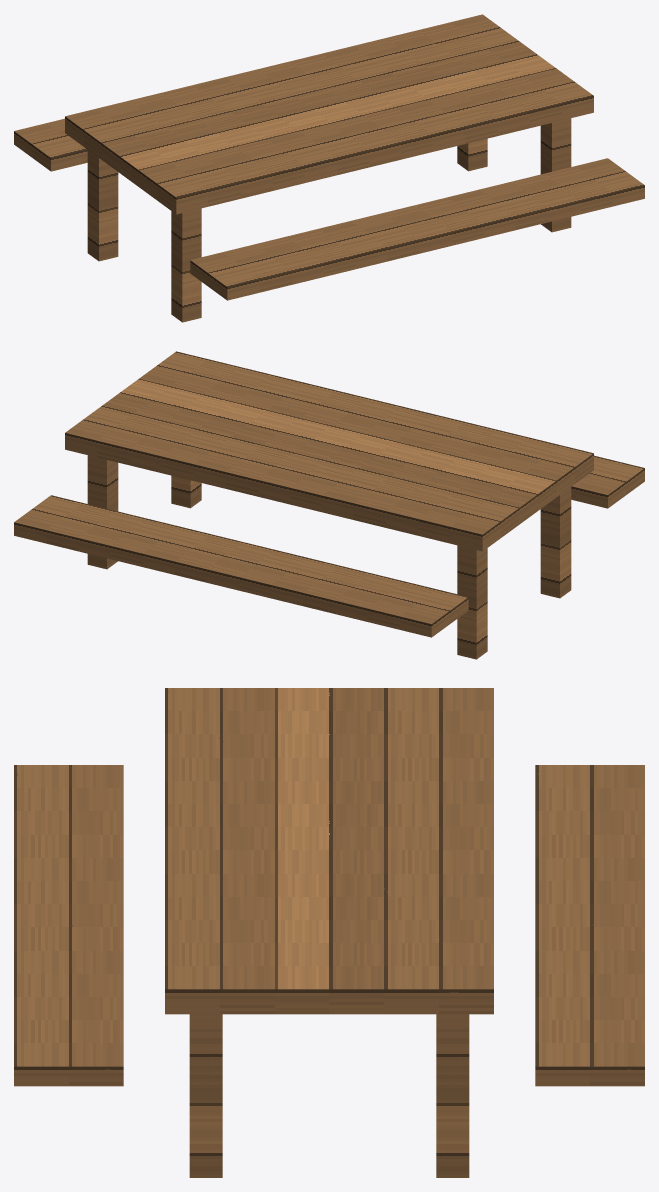
File: table.glb
The picture shows the model from 3 angles, top to bottom: view 1: azimuth 30°, elevation 25°; view 2: azimuth 150°, elevation 25°; view 3: azimuth 270°, elevation 25°; orthographic projection. The views are drawn at different scales.
Parts seen in each view (by area): view 1: top, bench_s, leg_ws, leg_wn, bench_n, leg_es, leg_en; view 2: top, bench_n, leg_wn, leg_ws, bench_s, leg_en, leg_es; view 3: top, bench_s, bench_n, leg_es, leg_en.
Part boxes in pixels (left/top/right/bottom): top: left=65, top=14, right=593, bottom=214; bench_s: left=190, top=158, right=644, bottom=300; leg_ws: left=171, top=208, right=201, bottom=322; leg_wn: left=87, top=150, right=118, bottom=261; bench_n: left=14, top=118, right=87, bottom=171; leg_es: left=540, top=118, right=571, bottom=232; leg_en: left=457, top=138, right=487, bottom=171; top: left=65, top=351, right=593, bottom=551; bench_n: left=14, top=495, right=468, bottom=637; leg_wn: left=457, top=545, right=487, bottom=659; leg_ws: left=540, top=487, right=571, bottom=598; bench_s: left=571, top=455, right=644, bottom=508; leg_en: left=87, top=455, right=118, bottom=569; leg_es: left=171, top=475, right=201, bottom=508; top: left=165, top=688, right=493, bottom=1014; bench_s: left=14, top=765, right=123, bottom=1086; bench_n: left=535, top=765, right=644, bottom=1086; leg_es: left=189, top=1014, right=222, bottom=1177; leg_en: left=436, top=1014, right=469, bottom=1177.
Size of the model in its own units: 2.6 by 0.8 by 2.3.
Materials: 1 (1 with a texture image).
